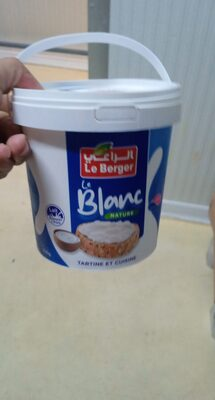le blanc nature 900g araai: (11, 20, 204, 380)
